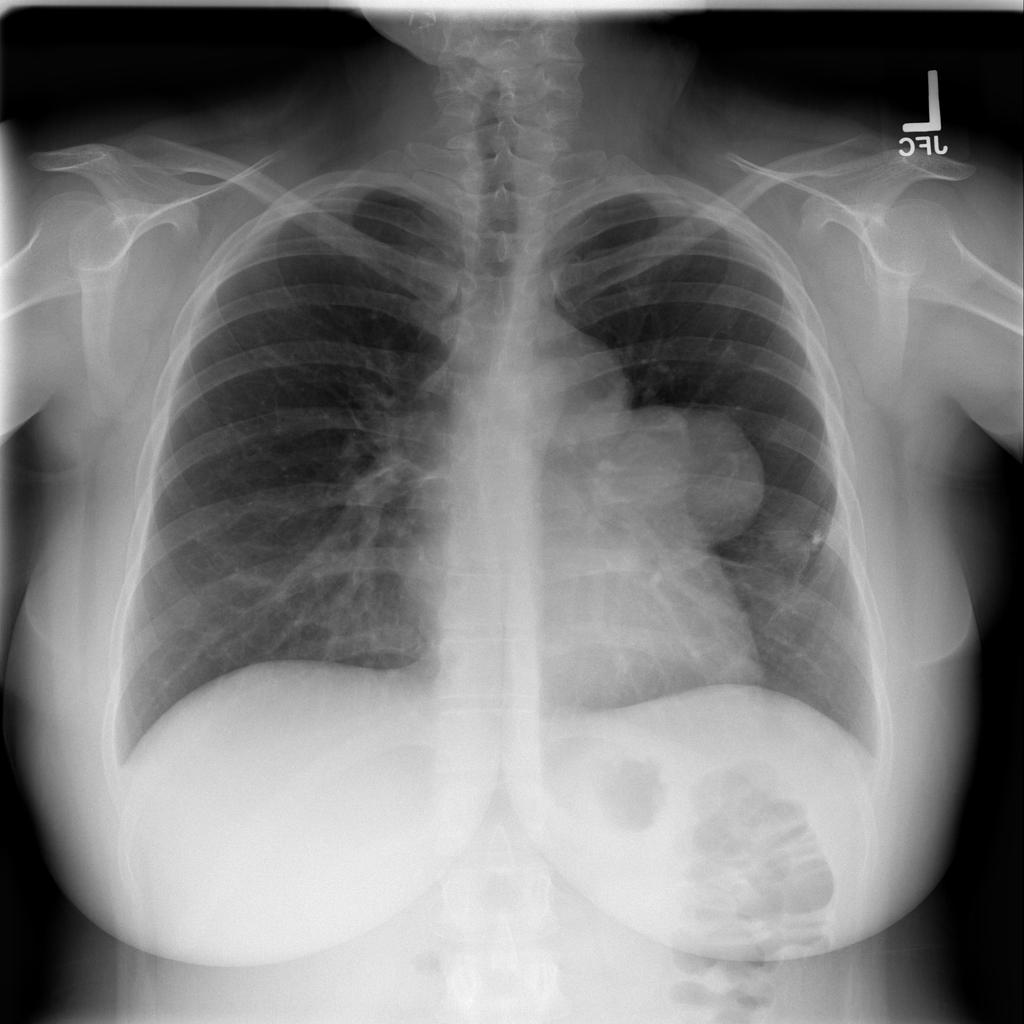nodule: (640, 409, 785, 553)
